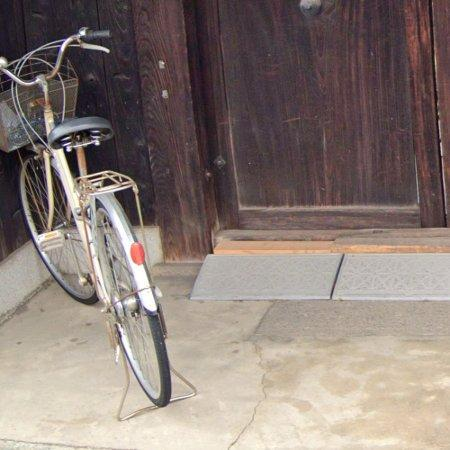bicycles: (0, 28, 172, 408)
